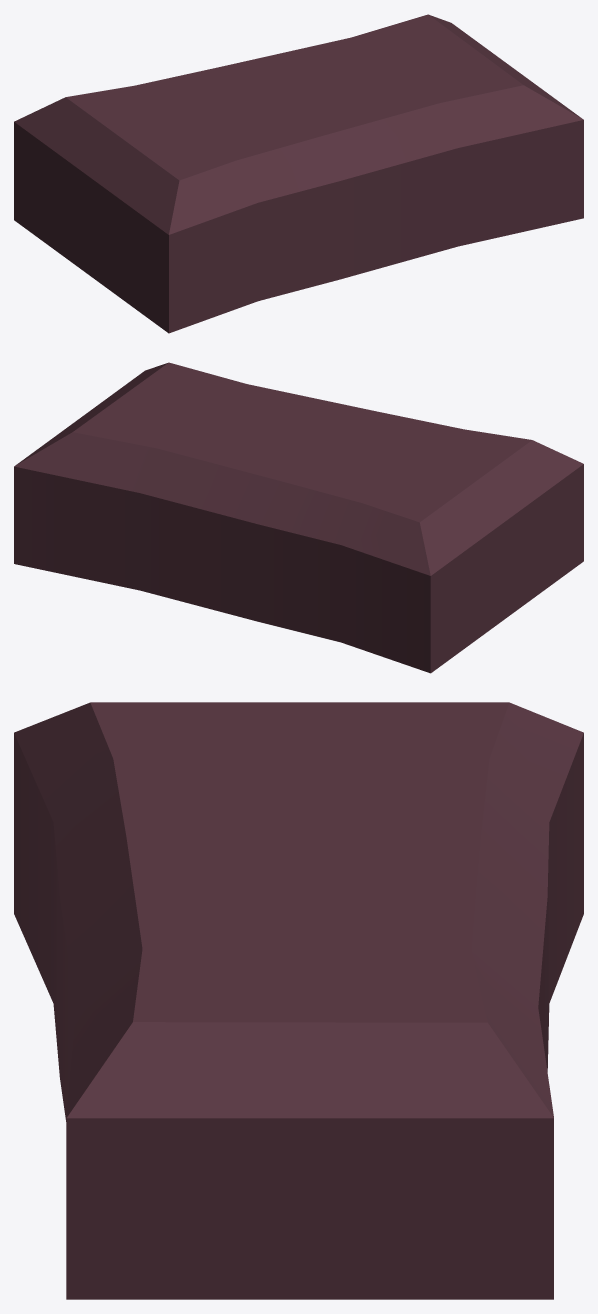
Rendered from ui-red-dash.glb.
3 views of the same model, one above another, from view 1: azimuth 30°, elevation 25°; view 2: azimuth 150°, elevation 25°; view 3: azimuth 270°, elevation 25° (orthographic). The views are drawn at different scales.
Visible parts, largest first — view 1: UI_Red_Dash; view 2: UI_Red_Dash; view 3: UI_Red_Dash.
Boxes of the visible parts, <box> form: UI_Red_Dash: <box>14,14,583,333</box>; UI_Red_Dash: <box>14,362,583,673</box>; UI_Red_Dash: <box>14,702,583,1299</box>.
Bounding box in the file's own units: 0.3672 × 0.1064 × 0.2294.
1 material, 1 textured.
